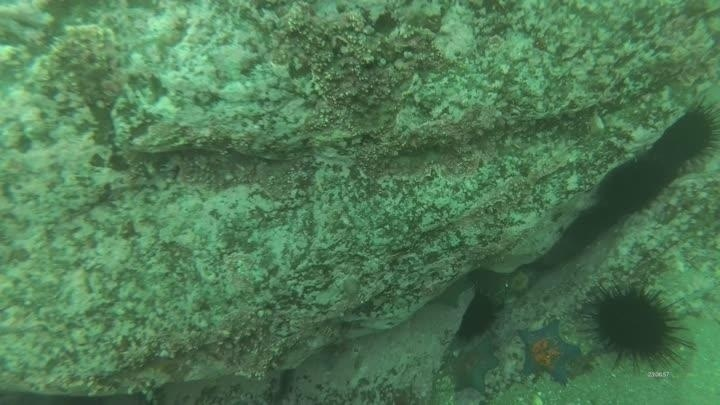echinus: (583, 279, 692, 372), (648, 97, 720, 174), (593, 153, 673, 220), (454, 288, 502, 342)
starfish: (513, 318, 585, 386), (444, 337, 502, 397)
